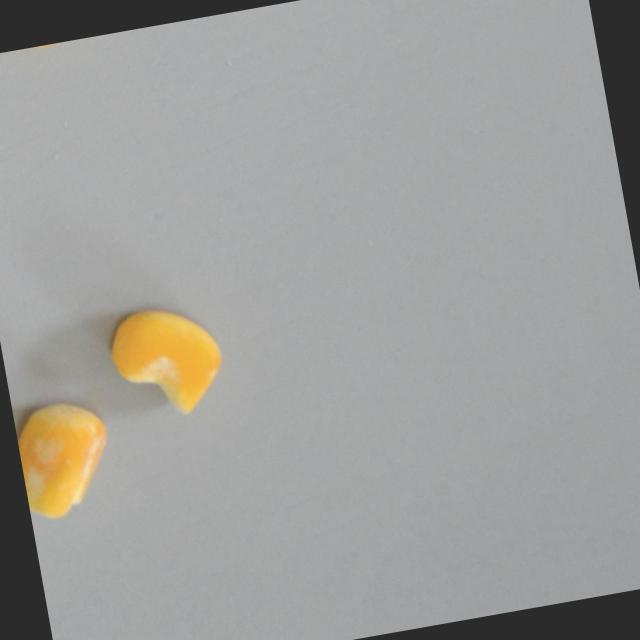no_canjicado: (102, 296, 230, 427)
pelicula: (10, 392, 116, 524)
